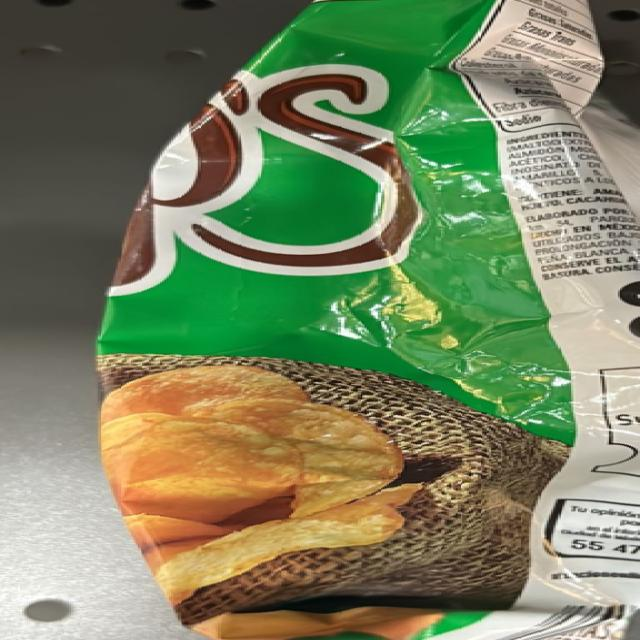chipsJalapeno: (114, 48, 640, 640)
